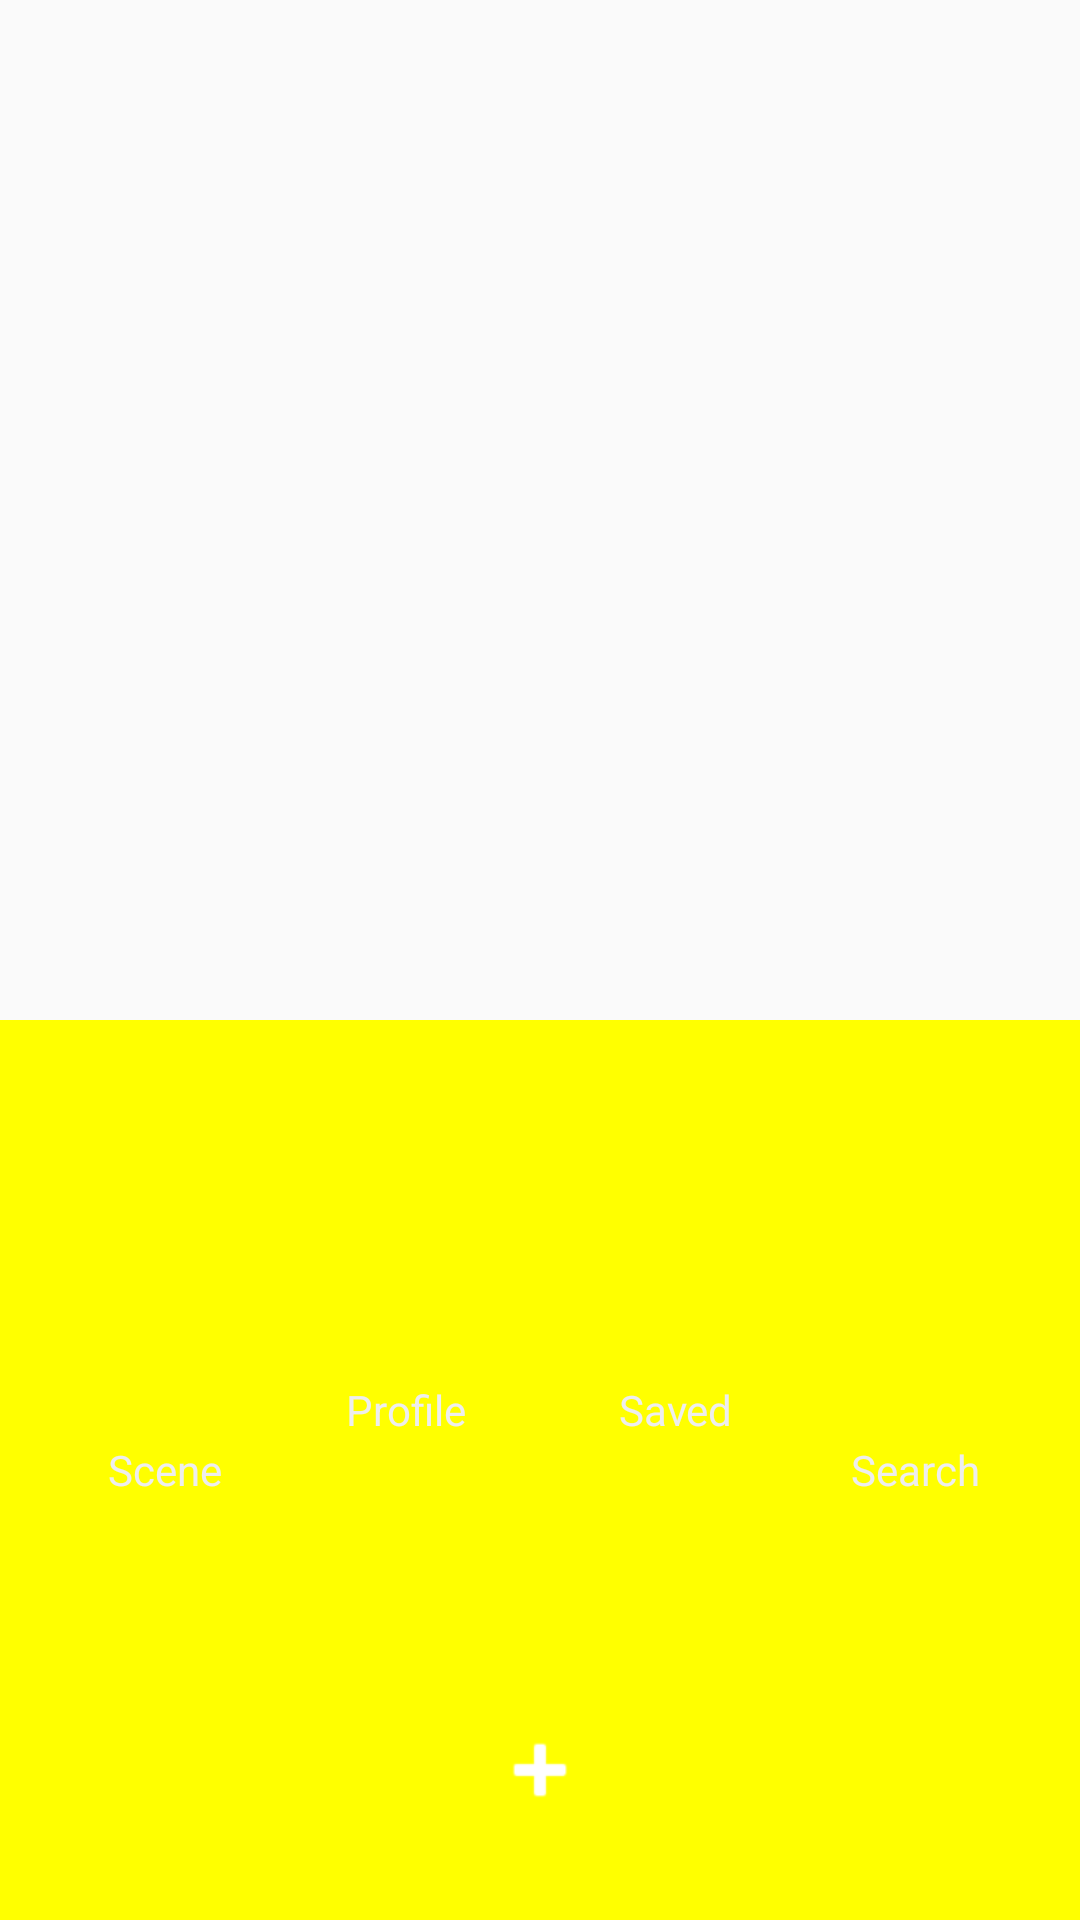

Locate icon controls on the screen. Image size 1080px×1920px, boxes as (x1, y1, x2, y2).
add: (513, 1743, 567, 1797)
